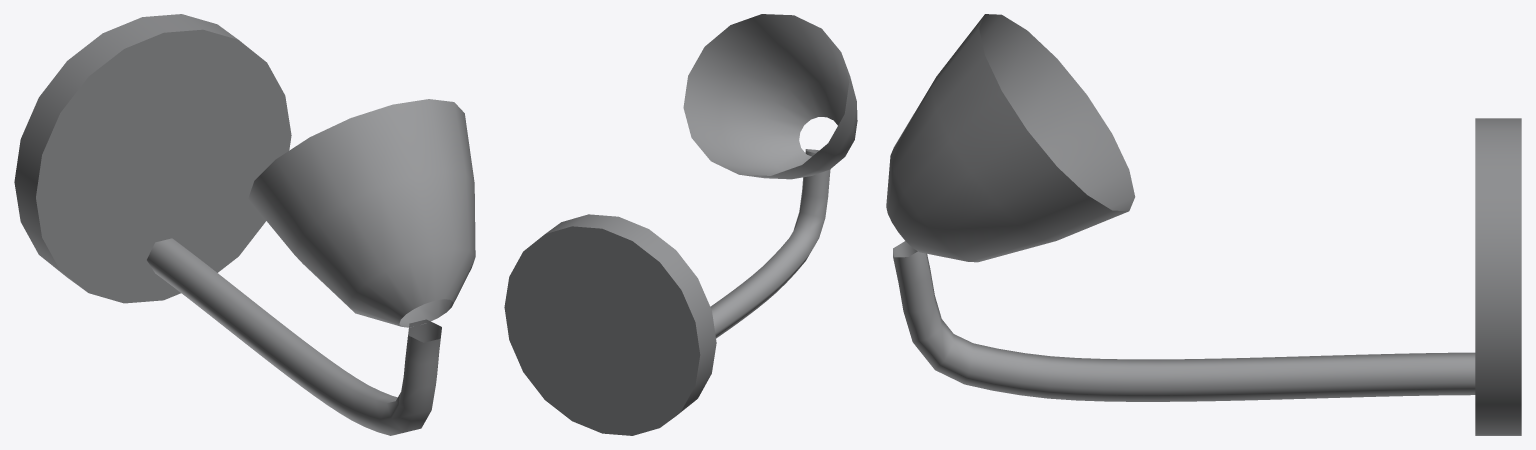
The picture shows the model from 3 angles, left to right: view 1: azimuth 30°, elevation 25°; view 2: azimuth 150°, elevation 25°; view 3: azimuth 270°, elevation 25°; orthographic projection. The views are drawn at different scales.
Size of the model in its own units: 0.3315 by 0.45 by 0.658.
